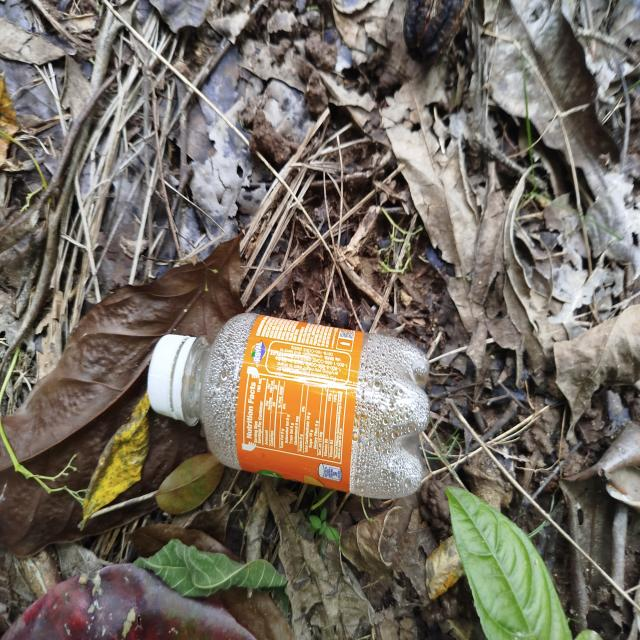plastic: (139, 302, 437, 503)
